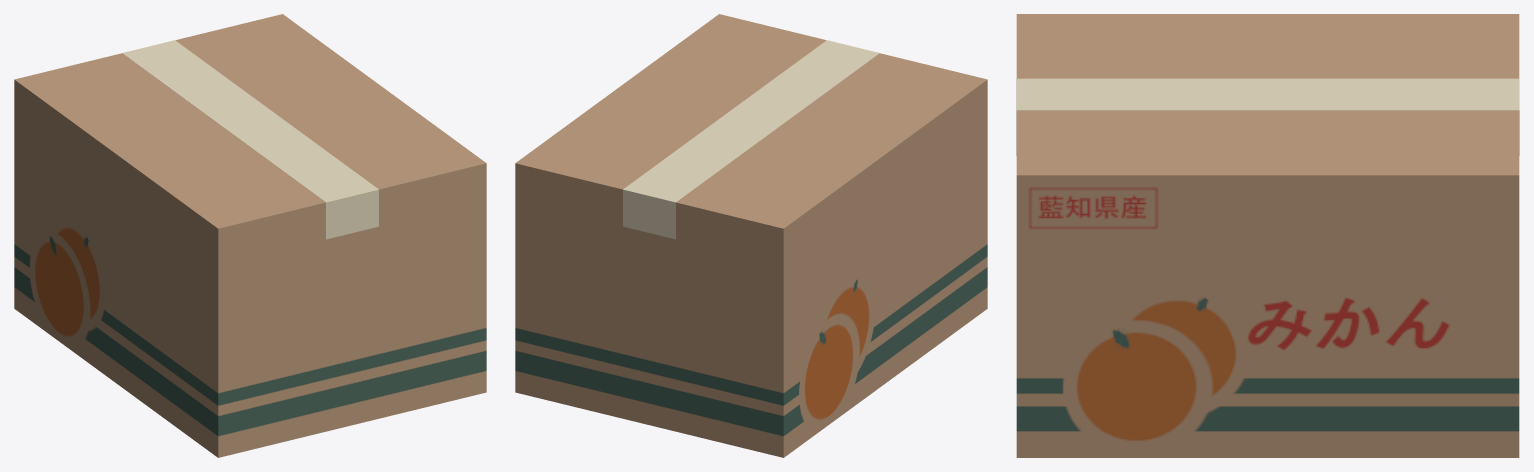
Rendered from cardboard-box3.glb.
3 views of the same model, side by side, from view 1: azimuth 30°, elevation 25°; view 2: azimuth 150°, elevation 25°; view 3: azimuth 270°, elevation 25° (orthographic). The views are drawn at different scales.
Parts seen in each view (by area): view 1: Box, Tape; view 2: Box, Tape; view 3: Box, Tape.
Part boxes in pixels (x1,y1,x2,y2): Box: (14,14,486,457); Tape: (122,40,378,239); Box: (515,14,987,457); Tape: (623,40,879,239); Box: (1016,14,1519,457); Tape: (1016,78,1519,155).
Bounding box in the file's own units: 0.38 × 0.3102 × 0.5004.
2 materials, 1 textured.
